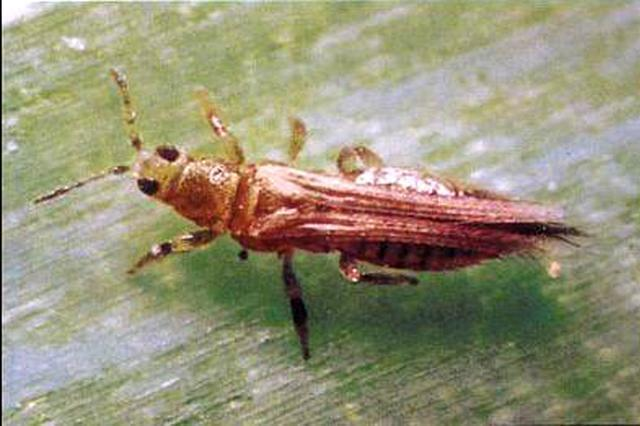Phlaeothripidae: (33, 65, 595, 360)
